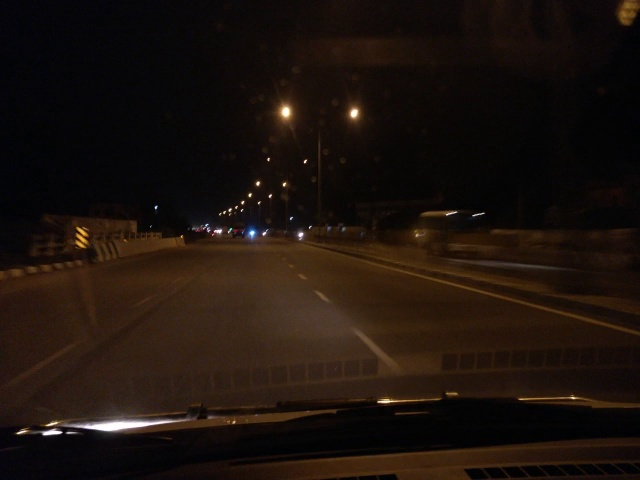car: (247, 228, 256, 240)
motorbike: (294, 231, 306, 240)
truck: (232, 223, 245, 240)
